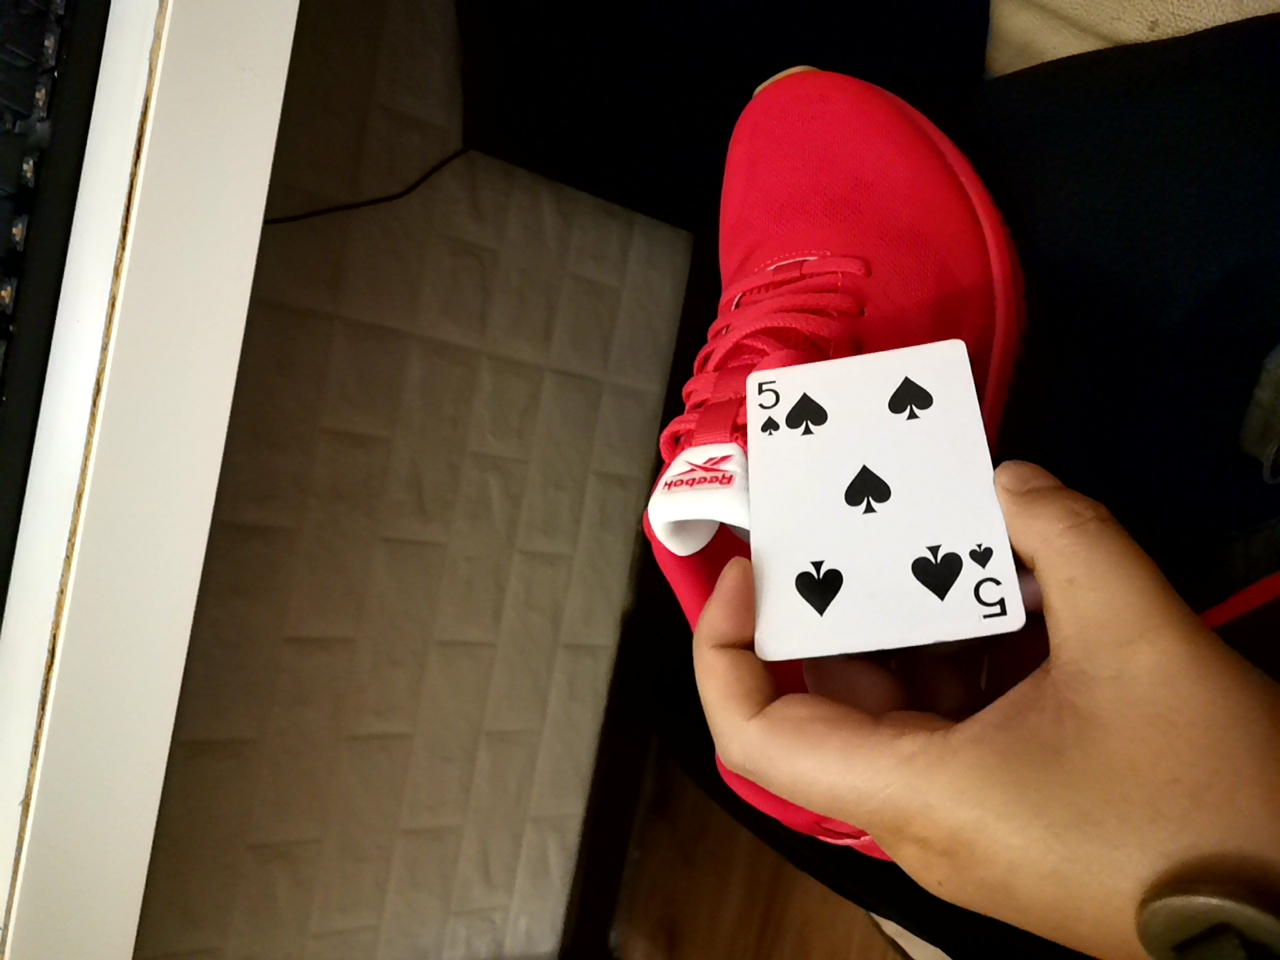ht 5: (695, 349, 1002, 659)
